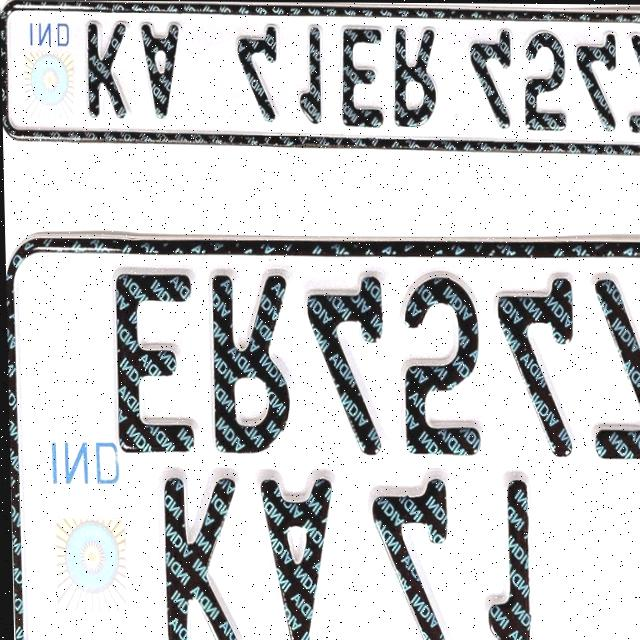plate: (4, 233, 640, 640), (0, 2, 640, 156)
